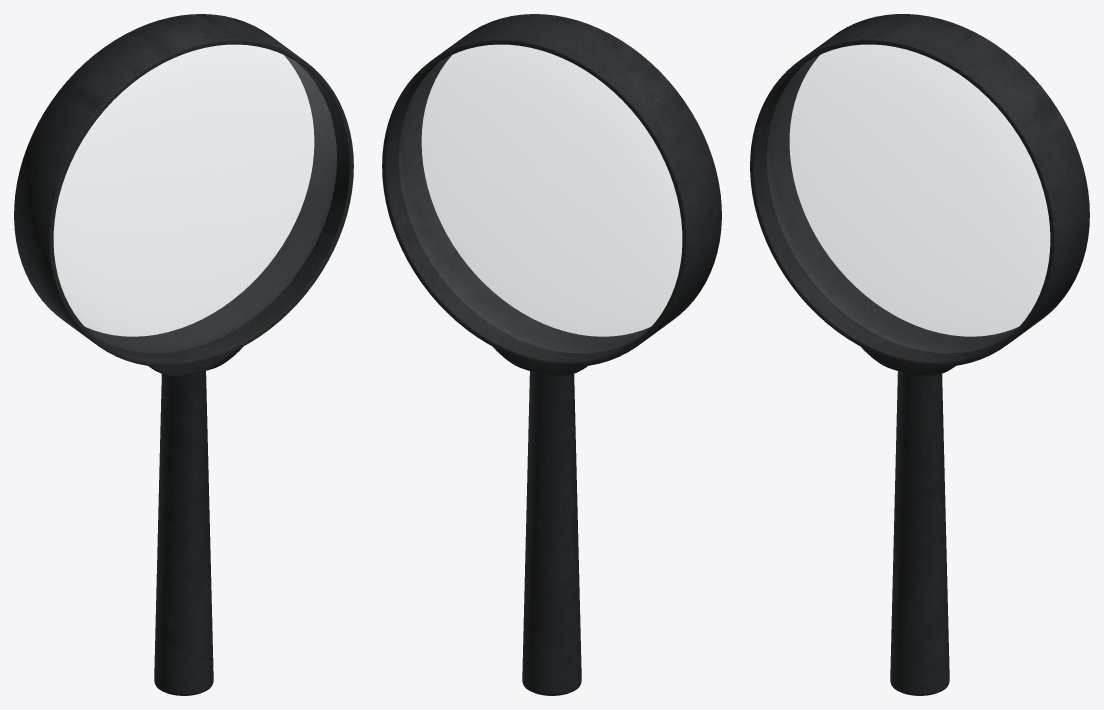
File: prop-lens.glb
The picture shows the model from 3 angles, left to right: view 1: azimuth 30°, elevation 25°; view 2: azimuth 150°, elevation 25°; view 3: azimuth 330°, elevation 25°; orthographic projection.
Parts seen in each view (by area): view 1: magnifying_glass_01; view 2: magnifying_glass_01; view 3: magnifying_glass_01.
Part boxes in pixels (box(x1,y1,x2,y2)): magnifying_glass_01: box(14, 14, 353, 695); magnifying_glass_01: box(382, 14, 721, 695); magnifying_glass_01: box(750, 14, 1089, 695).
Size of the model in its own units: 0.132 by 0.2715 by 0.0267.
2 materials, 1 textured.
